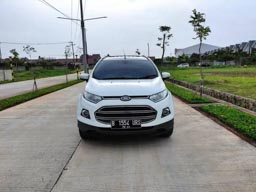plat: (108, 118, 144, 125)
